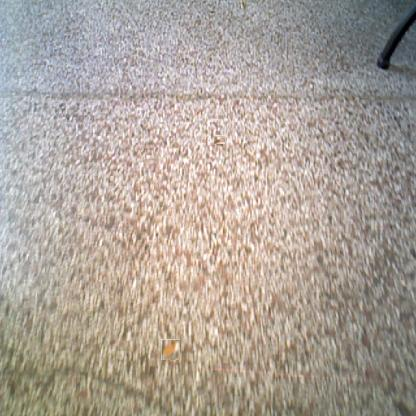dirty: (161, 339, 180, 360), (214, 134, 225, 146)
